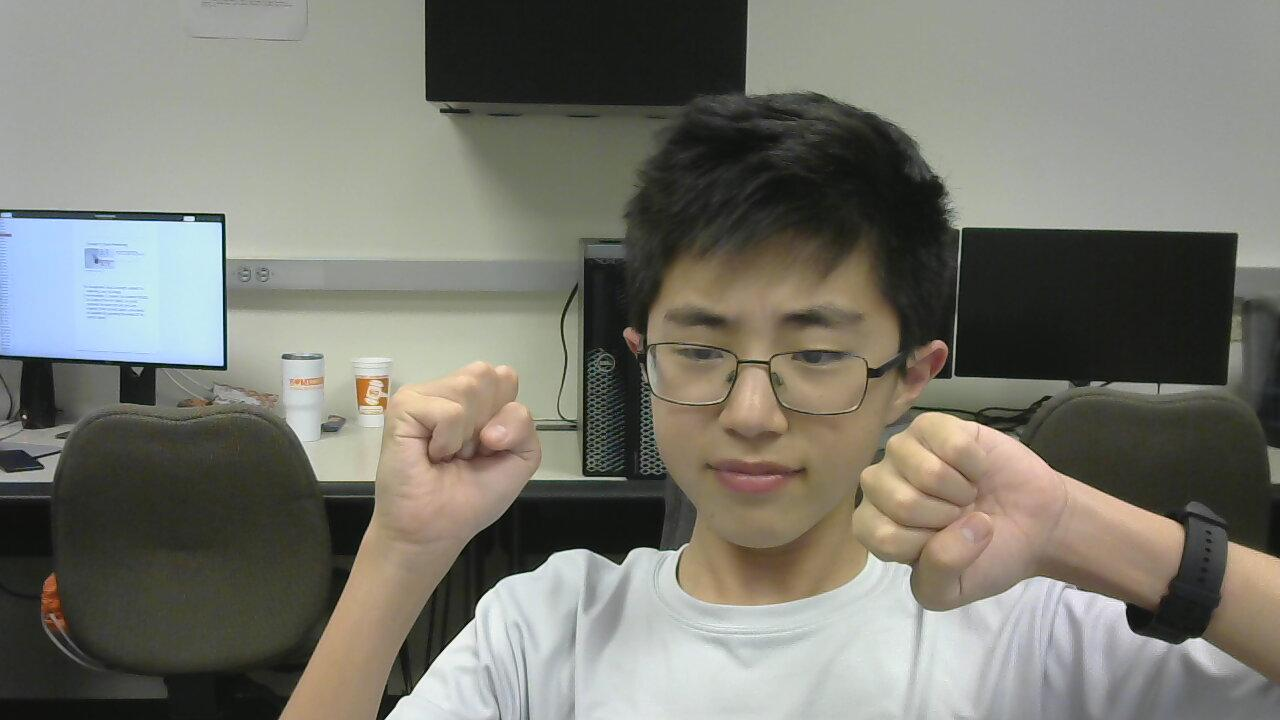fist: (838, 407, 1067, 616), (351, 357, 584, 559)
